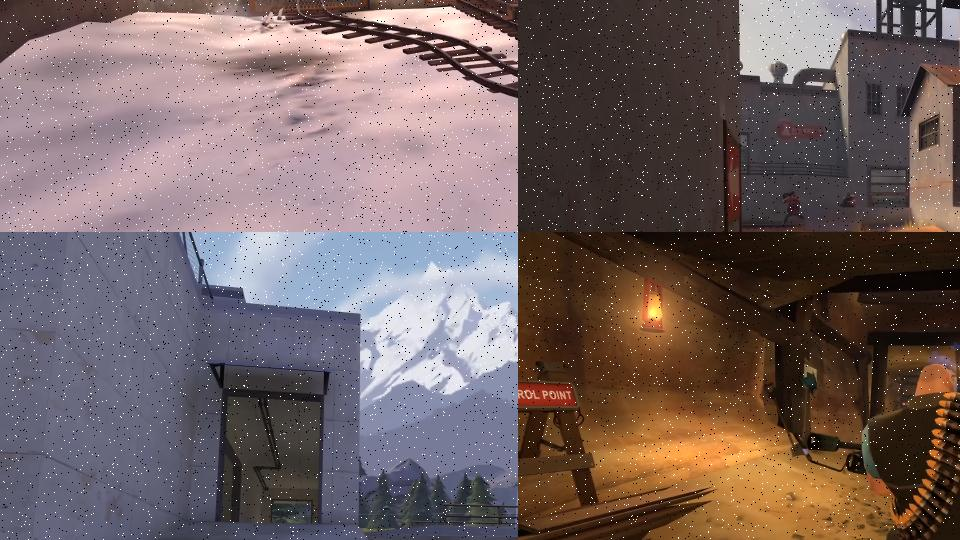Enemy: (860, 361, 960, 540), (263, 0, 308, 30), (781, 189, 806, 228), (838, 191, 858, 210)
